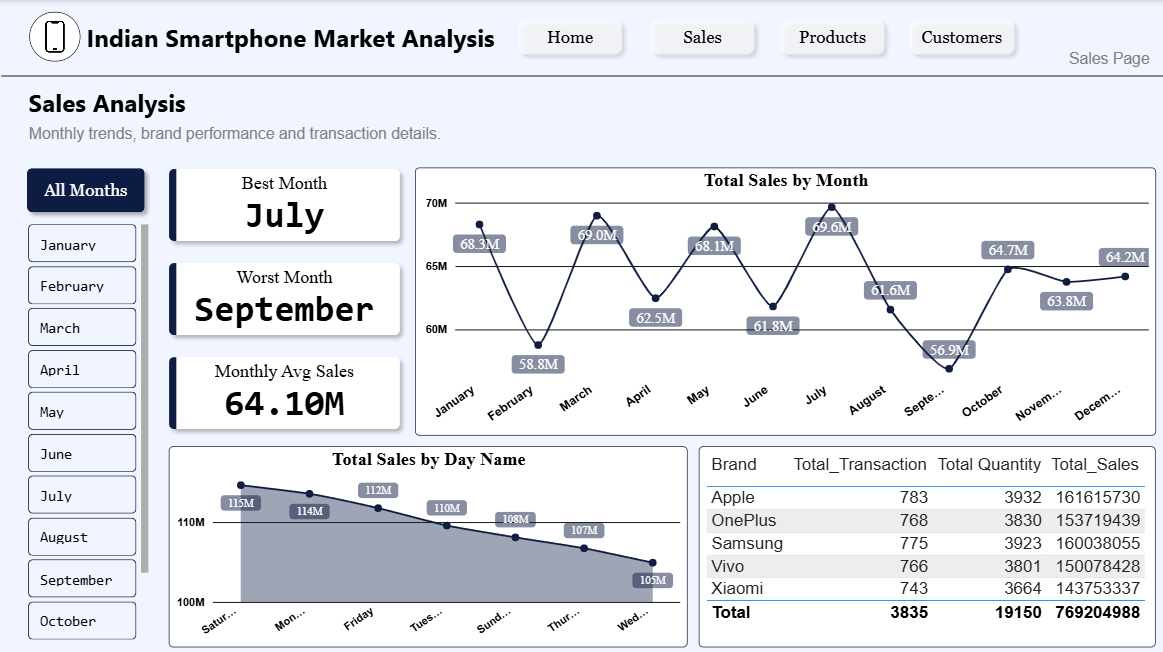

This screenshot's page, from the dashboard's own definition file:
{"tool":"powerbi","page":{"name":"Page 2","canvas":[1280,720],"ordinal":1},"visuals":[{"type":"shape","box":[27,90.8,180.4,42.9],"z":0},{"type":"shape","box":[25.8,133.7,463.8,28.2],"z":1000},{"type":"advancedSlicerVisual","fields":{"Values":["Mobile_Sales_Data.Date.Variation.Date Hierarchy.Month"]},"box":[25.8,241.7,142.3,468.7],"z":2000},{"type":"shape","box":[20.9,175.5,147.2,66.3],"z":3000},{"type":"shape","box":[1.2,74.8,1278.5,16],"z":4000},{"type":"lineChart","title":"Total Sales by Month","fields":{"Category":["Mobile_Sales_Data.Date.Variation.Date Hierarchy.Month","Mobile_Sales_Data.Date.Variation.Date Hierarchy.Day"],"Y":["Mobile_Sales_Data.Total_Sales"]},"box":[455.2,184.1,813.5,294.5],"z":5000},{"type":"areaChart","title":"Total Sales by Day Name","fields":{"Y":["Mobile_Sales_Data.Total_Sales"],"Category":["Mobile_Sales_Data.Day Name"]},"box":[198.8,489.6,555.8,220.9],"z":6000},{"type":"tableEx","fields":{"Values":["Mobile_Sales_Data.Brand","Mobile_Sales_Data.Total_Transaction","Mobile_Sales_Data.Total Quantity","Mobile_Sales_Data.Total_Sales"]},"box":[766.9,489.6,501.8,220.9],"z":7000},{"type":"shape","box":[1164.4,50.3,105.5,28.2],"z":8000},{"type":"cardVisual","fields":{"Data":["Mobile_Sales_Data.Best Month","Mobile_Sales_Data.Worst Month","Mobile_Sales_Data.Monthly Avg Sales"]},"box":[168.1,168.1,287.1,321.5],"z":9000},{"type":"shape","box":[93.3,15.1,451.5,50.8],"z":10000},{"type":"actionButton","box":[560.2,12.3,131.7,56.3],"z":11000},{"type":"actionButton","box":[705.7,12.3,131.7,56.3],"z":12000},{"type":"actionButton","box":[848.4,12.3,131.7,56.3],"z":13000},{"type":"actionButton","box":[989.7,12.3,133.1,56.3],"z":14000},{"type":"image","box":[27.4,8.2,65.9,64.5],"z":15000}]}

Visuals, with their boxes in screenshot pixels (x1, y1, x2, y2), scaled from the page's 1280x720 canvas onto the 1163x652 screenshot:
shape: left=25, top=82, right=188, bottom=121
shape: left=23, top=121, right=445, bottom=147
advancedSlicerVisual - Mobile_Sales_Data.Date.Variation.Date Hierarchy.Month: left=23, top=219, right=153, bottom=643
shape: left=19, top=159, right=153, bottom=219
shape: left=1, top=68, right=1162, bottom=82
"Total Sales by Month" lineChart: left=414, top=167, right=1153, bottom=433
"Total Sales by Day Name" areaChart: left=181, top=443, right=686, bottom=643
tableEx - Mobile_Sales_Data.Brand x Mobile_Sales_Data.Total_Transaction: left=697, top=443, right=1153, bottom=643
shape: left=1058, top=46, right=1154, bottom=71
cardVisual - Mobile_Sales_Data.Best Month x Mobile_Sales_Data.Worst Month: left=153, top=152, right=414, bottom=443
shape: left=85, top=14, right=495, bottom=60
actionButton: left=509, top=11, right=629, bottom=62
actionButton: left=641, top=11, right=761, bottom=62
actionButton: left=771, top=11, right=891, bottom=62
actionButton: left=899, top=11, right=1020, bottom=62
image: left=25, top=7, right=85, bottom=66
